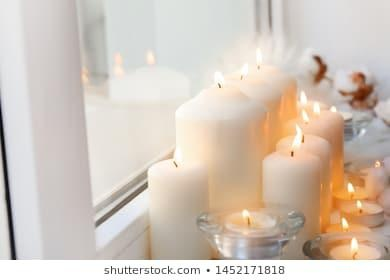fire: (289, 123, 303, 151), (170, 141, 183, 167), (142, 48, 157, 65), (253, 45, 265, 66), (237, 60, 250, 77), (238, 207, 251, 221), (348, 236, 358, 253), (345, 179, 356, 193)
